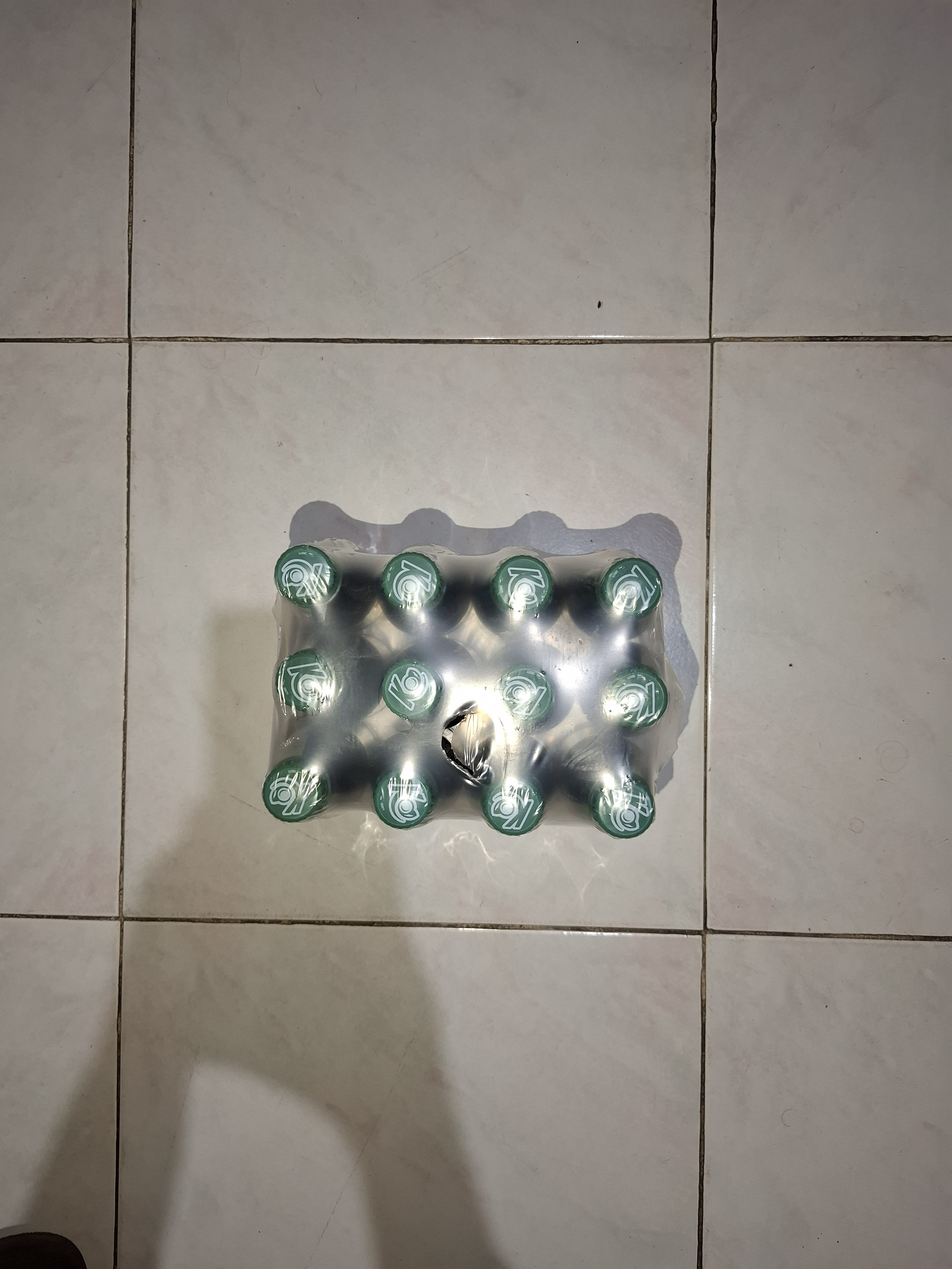Tampa Refrigerante Kuat: (594, 656, 667, 739), (268, 535, 339, 616), (493, 544, 560, 625), (481, 765, 551, 840), (366, 757, 437, 829), (272, 650, 344, 720), (376, 543, 446, 614), (373, 655, 443, 722), (257, 757, 327, 824), (594, 765, 656, 838), (604, 551, 667, 622), (492, 658, 557, 726)
